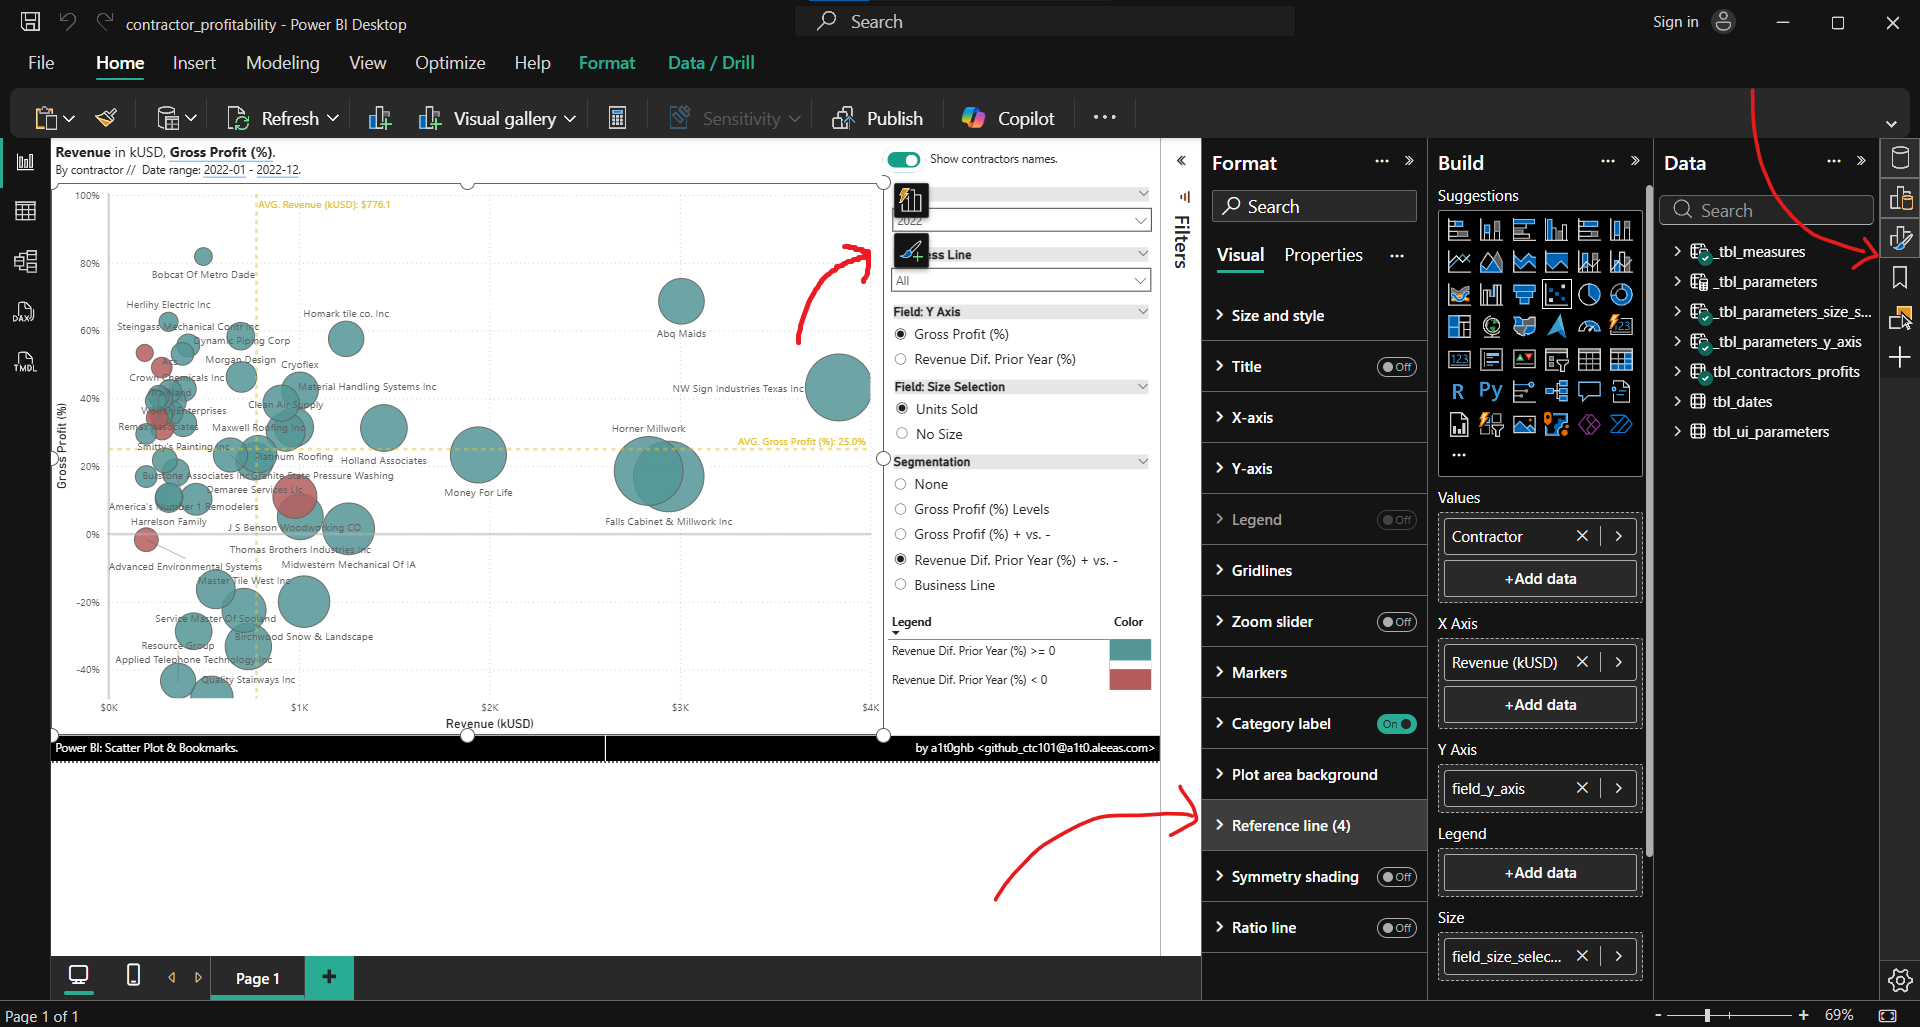

Layout of this report page (visuals, bound fields, positions):
{"tool":"powerbi","page":{"name":"Page 1","canvas":[1280,720],"ordinal":0},"visuals":[{"type":"tableEx","fields":{"Values":["tbl_parameters.segment","tbl_parameters.segment_index"]},"box":[959.3,541.2,320.3,178.7],"z":0},{"type":"scatterChart","fields":{"Y":["_tbl_measures.total_gross_profit_p"],"Size":["_tbl_measures.total_units"],"X":["_tbl_measures.total_revenue"],"Category":["tbl_contractors_profits.client_name"]},"box":[0,52,960.2,668.1],"z":1000},{"type":"slicer","fields":{"Values":["tbl_parameters.y_axis"]},"box":[959.3,187.1,320.3,87.7],"z":2000},{"type":"slicer","fields":{"Values":["tbl_dates.Year","tbl_dates.Month"]},"box":[960.2,52,319.5,68.8],"z":3000},{"type":"textbox","box":[0,0,959.3,52.3],"z":4000},{"type":"slicer","fields":{"Values":["Size Selection.Size Selection"]},"box":[961,274.8,318.7,86],"z":5000},{"type":"slicer","fields":{"Values":["tbl_ui_parameters.segment_category"]},"box":[959.3,360.8,320.3,180.4],"z":6000},{"type":"slicer","fields":{"Values":["tbl_contractors_profits.business_line"]},"box":[959.3,121.4,320.3,65.8],"z":6001}]}

Visuals, with their boxes on the page's 1280x720 design canvas (x1, y1, x2, y2). These are canvas units, not pixel positions in the 1920x1027 screenshot, which may show the page scaled, cropped or inside an application window:
tableEx - tbl_parameters.segment x tbl_parameters.segment_index: locate(959, 541, 1280, 720)
scatterChart - _tbl_measures.total_gross_profit_p x _tbl_measures.total_units: locate(0, 52, 960, 720)
slicer - tbl_parameters.y_axis: locate(959, 187, 1280, 275)
slicer - tbl_dates.Year x tbl_dates.Month: locate(960, 52, 1280, 121)
textbox: locate(0, 0, 959, 52)
slicer - Size Selection.Size Selection: locate(961, 275, 1280, 361)
slicer - tbl_ui_parameters.segment_category: locate(959, 361, 1280, 541)
slicer - tbl_contractors_profits.business_line: locate(959, 121, 1280, 187)
